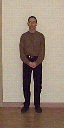person: (19, 17, 48, 113)
